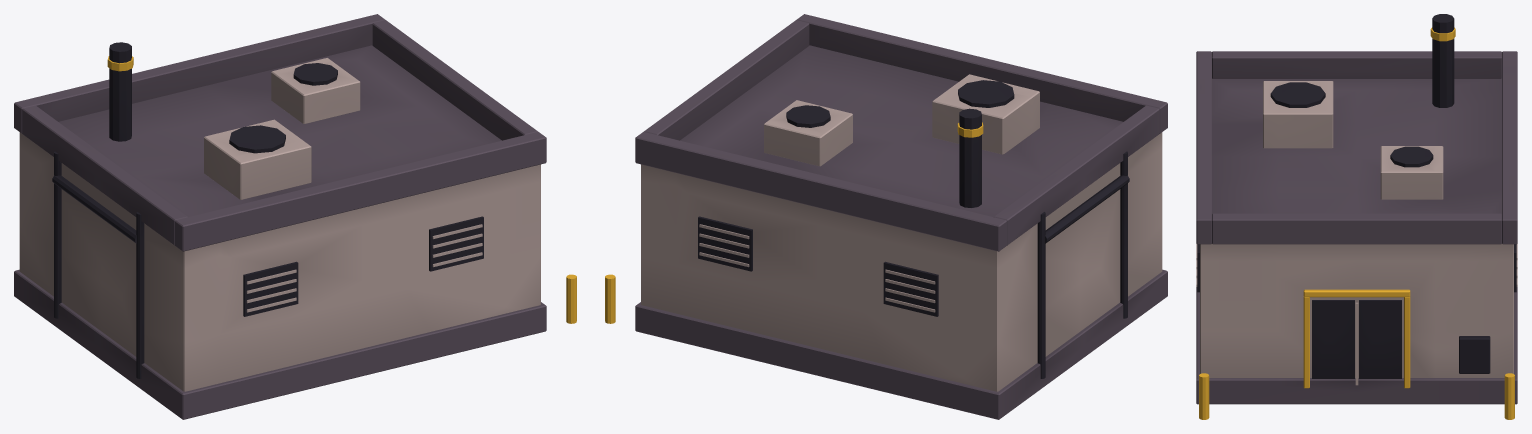
3 renders of one model, left to right at view 1: azimuth 30°, elevation 25°; view 2: azimuth 150°, elevation 25°; view 3: azimuth 270°, elevation 25°, orthographic. The views are drawn at different scales.
Parts seen in each view (by area): view 1: body_pal_asphalt, body_pal_sidewalk, body_pal_uiDark, body_pal_schoolBusYellow; view 2: body_pal_asphalt, body_pal_sidewalk, body_pal_uiDark, body_pal_schoolBusYellow; view 3: body_pal_asphalt, body_pal_sidewalk, body_pal_uiDark, body_pal_schoolBusYellow.
Boxes of the visible parts, box(x1,y1,x2,y2) form: body_pal_asphalt: box(14, 14, 546, 419); body_pal_sidewalk: box(19, 58, 540, 391); body_pal_uiDark: box(52, 42, 483, 378); body_pal_schoolBusYellow: box(107, 56, 576, 323); body_pal_asphalt: box(635, 14, 1167, 419); body_pal_sidewalk: box(641, 74, 1162, 391); body_pal_uiDark: box(698, 80, 1129, 378); body_pal_schoolBusYellow: box(605, 122, 983, 323); body_pal_asphalt: box(1196, 51, 1517, 404); body_pal_sidewalk: box(1196, 81, 1517, 385); body_pal_uiDark: box(1197, 14, 1516, 378); body_pal_schoolBusYellow: box(1199, 27, 1514, 419).
Size of the model in its own units: 11.25 by 7 by 8.2.
